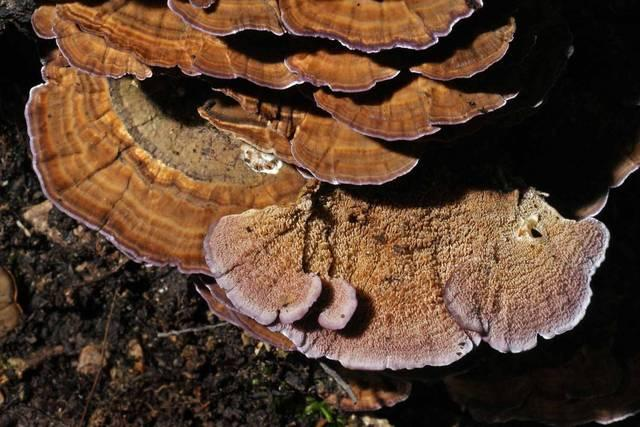poisonous_mushroom: (23, 0, 612, 378), (194, 177, 610, 372)
